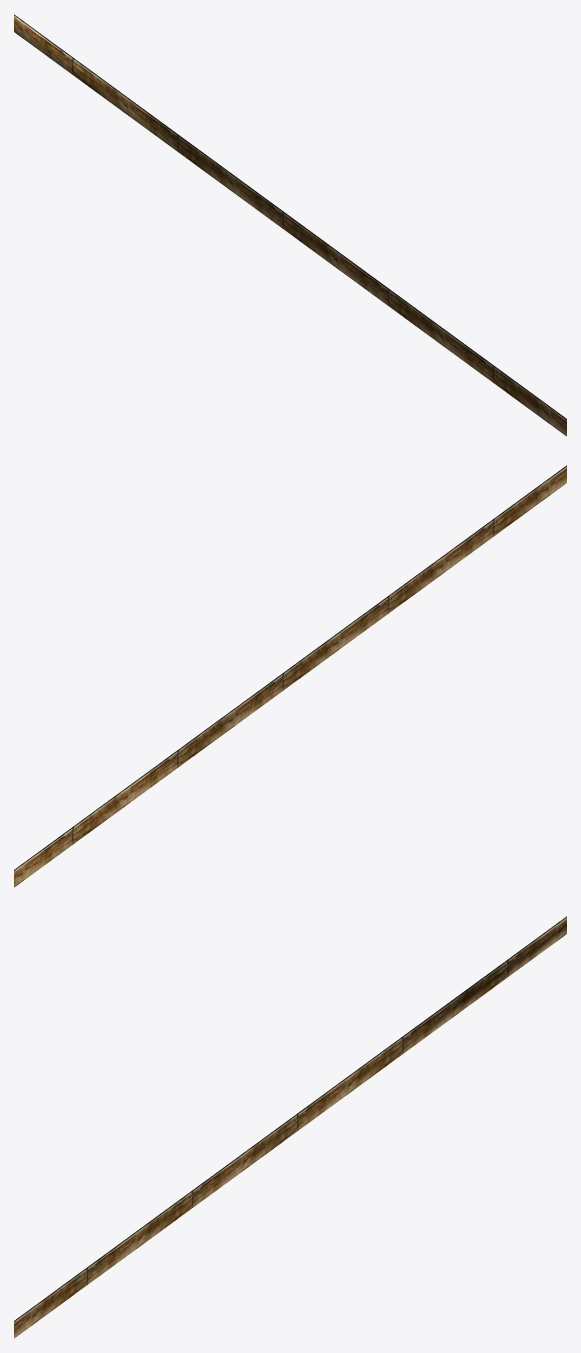
Rendered from LAKETOWN_PUB_PS_PUB_FLOORTRIM373736.fbx.
3 views of the same model, one above another, from view 1: azimuth 30°, elevation 25°; view 2: azimuth 150°, elevation 25°; view 3: azimuth 330°, elevation 25° (orthographic).
Parts seen in each view (by area): view 1: LAKETOWN_PUB_PS_PUB_FLOORTRIM373736; view 2: LAKETOWN_PUB_PS_PUB_FLOORTRIM373736; view 3: LAKETOWN_PUB_PS_PUB_FLOORTRIM373736.
Part boxes in pixels (x1=…): LAKETOWN_PUB_PS_PUB_FLOORTRIM373736: x1=14, y1=14, x2=566, y2=436; LAKETOWN_PUB_PS_PUB_FLOORTRIM373736: x1=14, y1=465, x2=566, y2=887; LAKETOWN_PUB_PS_PUB_FLOORTRIM373736: x1=14, y1=916, x2=566, y2=1338.
Bounding box in the file's own units: 0.00916 × 1525 × 85630.
1 material, 1 textured.
